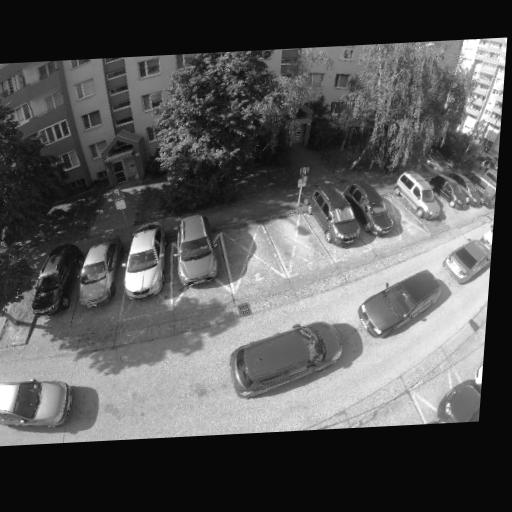busy: (221, 322, 348, 395), (356, 272, 441, 335), (0, 373, 80, 431), (165, 214, 228, 287), (116, 224, 172, 300), (72, 239, 122, 309), (27, 249, 77, 318), (311, 188, 364, 249), (346, 182, 399, 240), (392, 171, 445, 224), (445, 360, 483, 423), (443, 234, 493, 280), (432, 173, 477, 212), (461, 170, 497, 208)
free: (89, 350, 207, 414), (279, 218, 320, 260), (233, 238, 269, 275), (389, 205, 421, 234)
